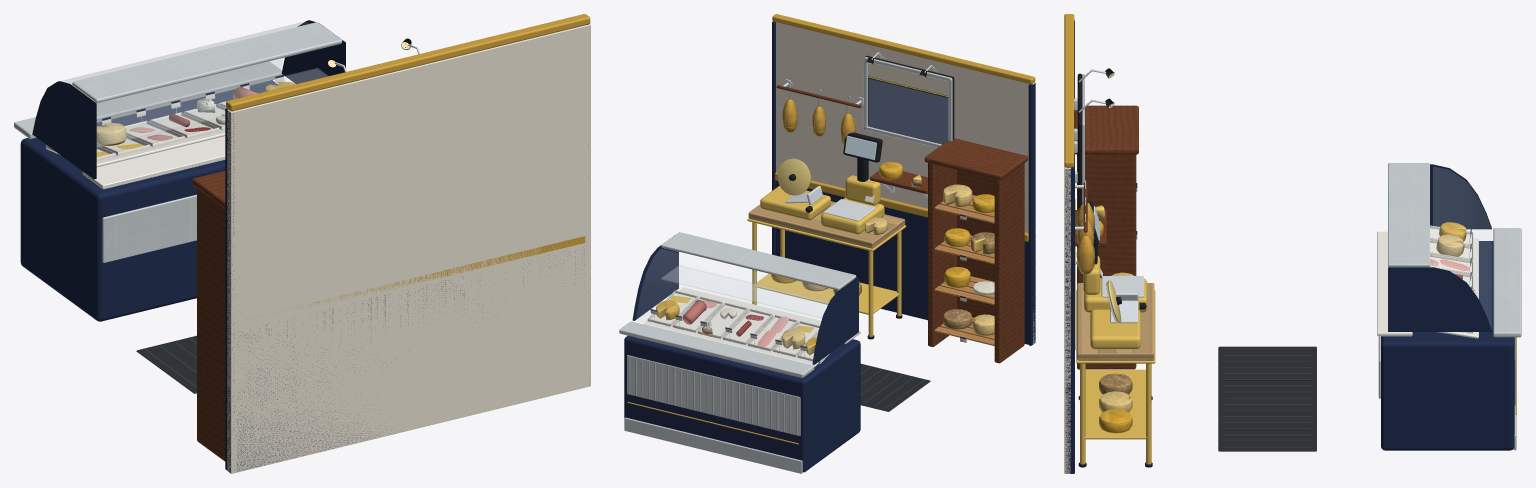
The model's file is sector-queijaria_T1.fbx.
The picture shows the model from 3 angles, left to right: view 1: azimuth 30°, elevation 25°; view 2: azimuth 150°, elevation 25°; view 3: azimuth 270°, elevation 25°; orthographic projection. The views are drawn at different scales.
Parts seen in each view (by area): view 1: Back Wall, Body; view 2: Body, Back Wall, Wall Dressing; view 3: Body, Back Wall, Wall Dressing.
Part boxes in pixels (bbox=[...]): Back Wall: bbox=[225, 14, 590, 473]; Body: bbox=[14, 20, 345, 461]; Body: bbox=[619, 132, 1027, 473]; Back Wall: bbox=[772, 14, 1035, 345]; Wall Dressing: bbox=[776, 52, 954, 198]; Body: bbox=[1074, 105, 1521, 467]; Back Wall: bbox=[1064, 14, 1075, 473]; Wall Dressing: bbox=[1074, 68, 1114, 274].
Size of the model in its own units: 2.5 by 2.45 by 3.25.
